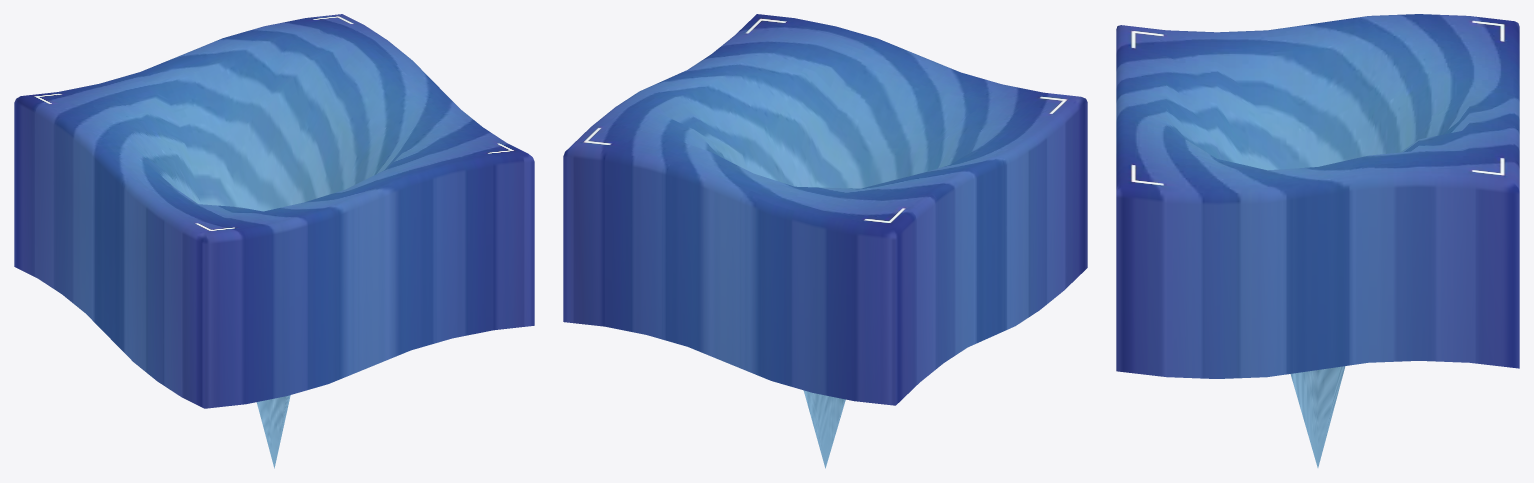
Rendered from typhon.glb.
3 renders of one model, left to right at view 1: azimuth 30°, elevation 25°; view 2: azimuth 150°, elevation 25°; view 3: azimuth 270°, elevation 25°, orthographic. The views are drawn at different scales.
Visible parts, largest first — view 1: waterBlock.001; view 2: waterBlock.001; view 3: waterBlock.001.
Boxes of the visible parts, x1=… form: waterBlock.001: x1=14, y1=14, x2=534, y2=468; waterBlock.001: x1=563, y1=14, x2=1087, y2=468; waterBlock.001: x1=1116, y1=14, x2=1519, y2=467.
Size of the model in its own units: 2 by 2.09 by 2.
1 material, 1 textured.
